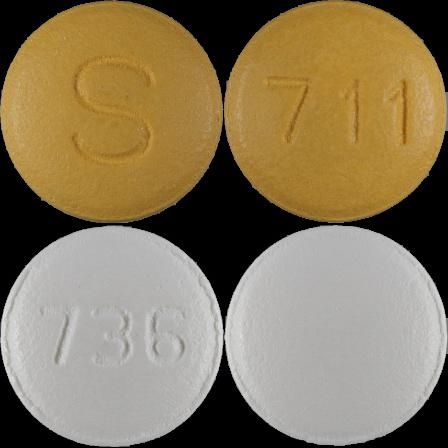68258-7156: (0, 0, 224, 224)
